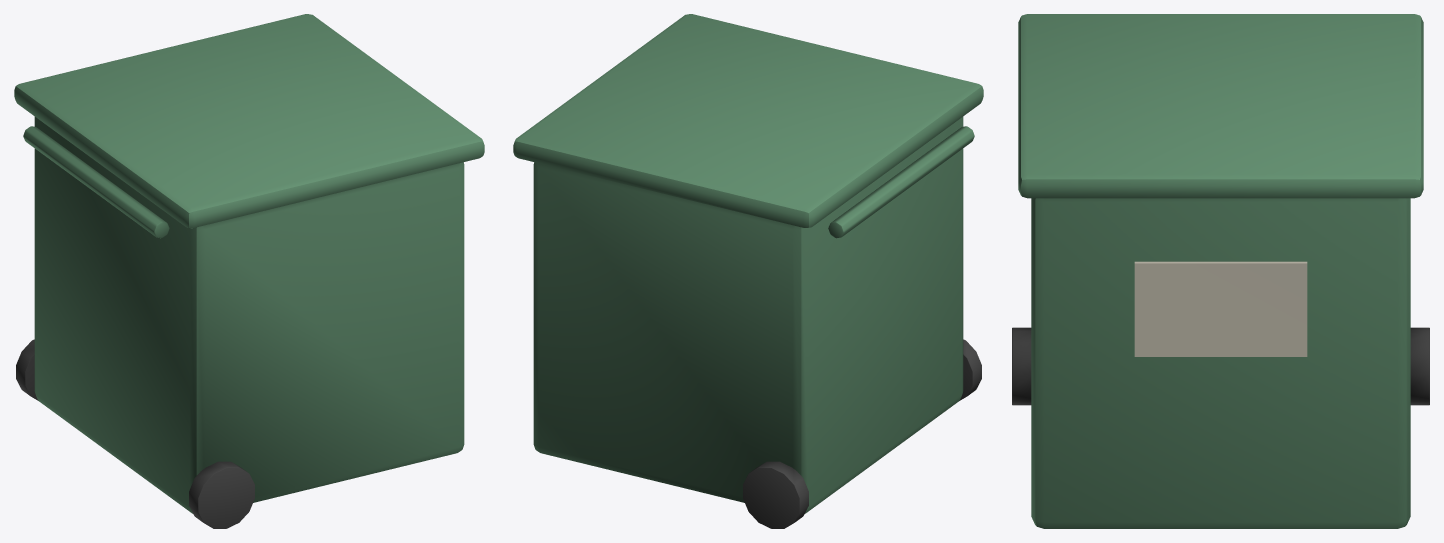
File: bins.glb
The picture shows the model from 3 angles, left to right: view 1: azimuth 30°, elevation 25°; view 2: azimuth 150°, elevation 25°; view 3: azimuth 270°, elevation 25°; orthographic projection. The views are drawn at different scales.
Parts seen in each view (by area): view 1: boat_binGreen, boat_dartblack; view 2: boat_binGreen, boat_dartblack; view 3: boat_binGreen, boat_label2, boat_dartblack.
Boxes of the visible parts, x1,y1,x2,y2 form: boat_binGreen: (14, 14, 484, 513); boat_dartblack: (16, 339, 254, 528); boat_binGreen: (513, 14, 983, 513); boat_dartblack: (743, 339, 981, 528); boat_binGreen: (1018, 14, 1423, 528); boat_label2: (1134, 261, 1307, 356); boat_dartblack: (1012, 327, 1429, 405).
Bounding box in the file's own units: 0.9541 × 0.95 × 0.97.
